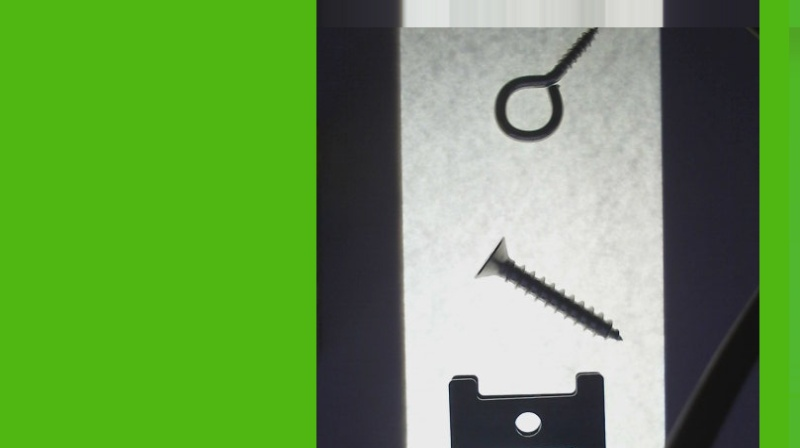O001: (492, 22, 601, 143)
O002: (447, 371, 605, 447)
S001: (470, 237, 622, 340)
